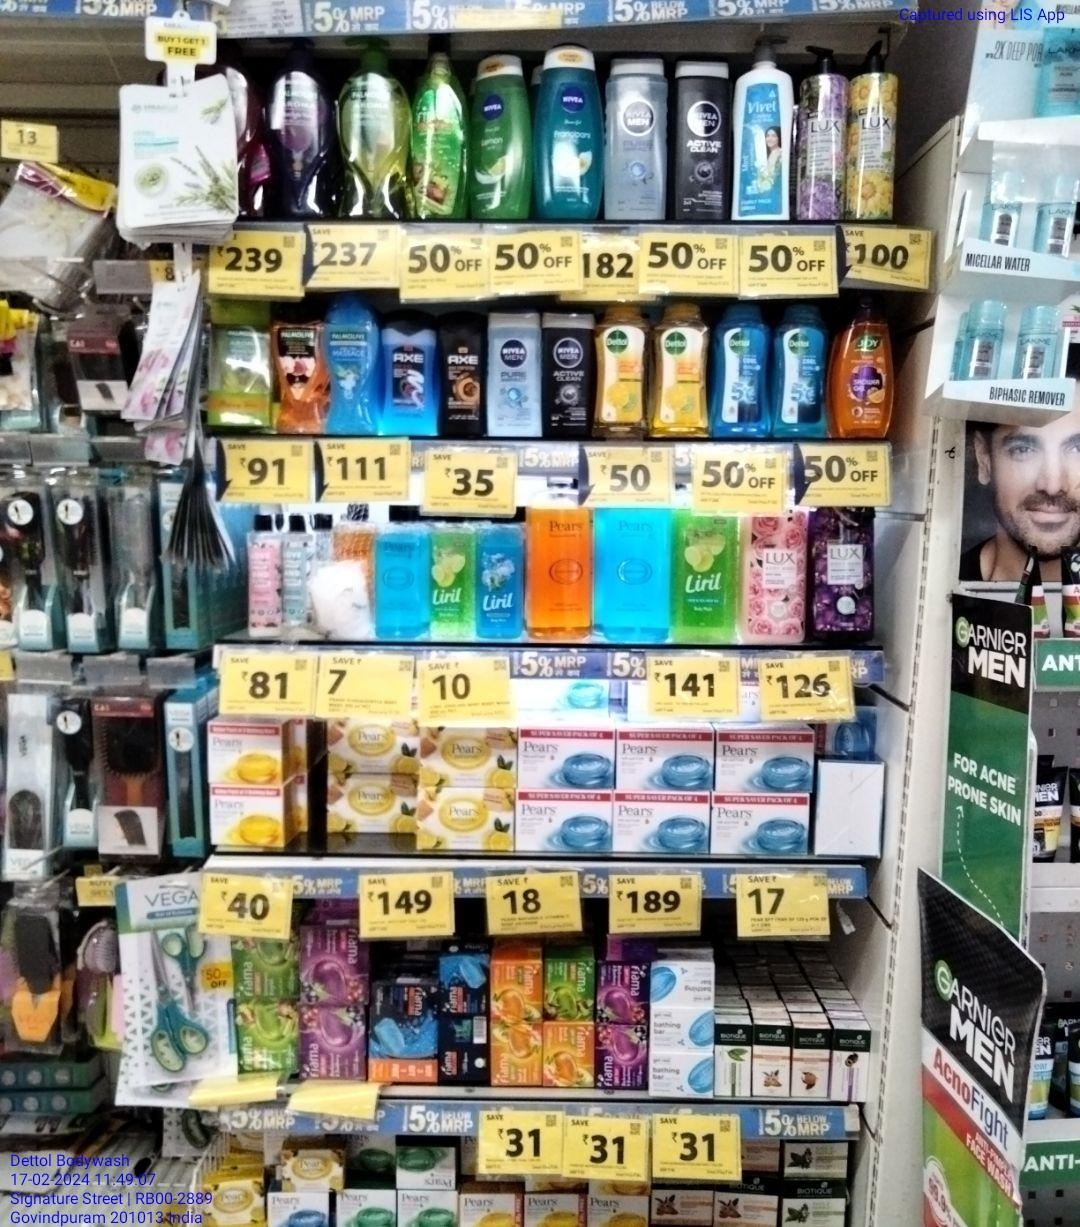Dettol_Bodywash_Cool: (716, 303, 771, 436), (773, 306, 827, 436)
Dettol_Bodywash_Refresh: (654, 304, 710, 440), (595, 303, 642, 437)
Joy_Shower_Gel_Mandarin_and_Lemongrass_250ML: (834, 307, 895, 440)
Liril_Cooling_Mint_Body_Wash_250ML: (476, 519, 524, 639)
Liril_Lime_and_Tea_Tree_Oil_Body_Wash_250ML: (429, 516, 473, 639)
Nivea_Shower_Gel_Frangipani_and_Oil_250ML: (537, 44, 599, 221)
Nivea_Shower_Gel_Lemon_and_Oil_250ML: (470, 54, 532, 220)
Palmolive_Aroma_Moments_Feel_The_Massage_Shower_Gel_250ML: (323, 292, 375, 436)
Palmolive_Luminous_Oils_With_White_Orchid_Shower_Gel_250ML: (273, 296, 322, 436)
